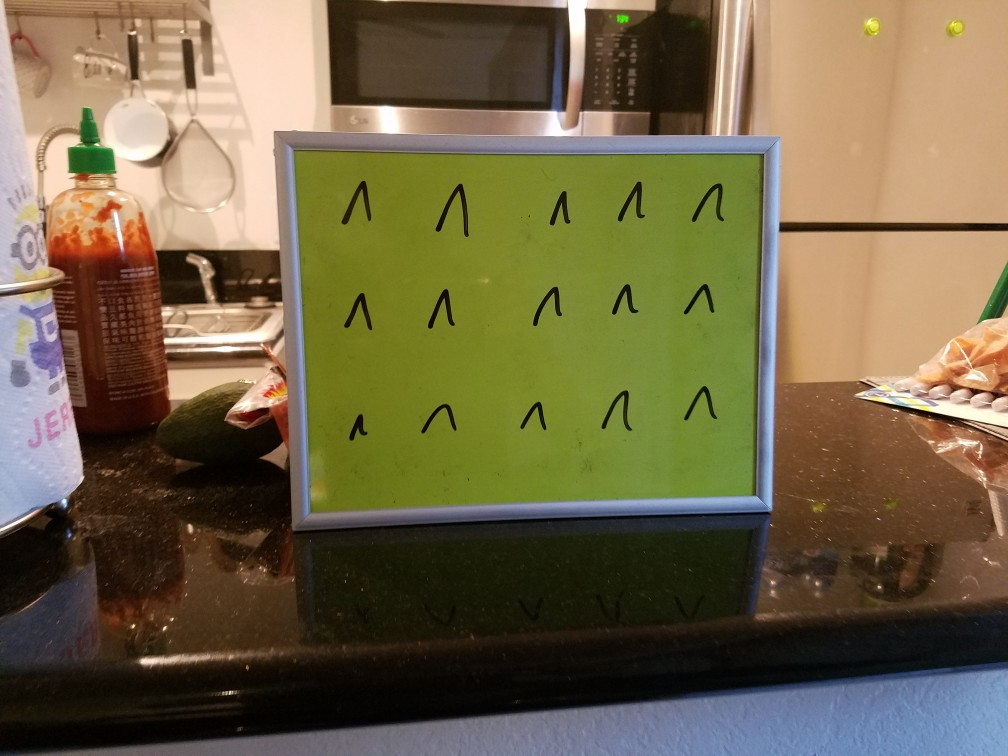^: (521, 273, 587, 342), (427, 176, 485, 248), (324, 177, 383, 234), (541, 176, 589, 245), (595, 382, 648, 440), (682, 174, 734, 229), (679, 379, 730, 432), (420, 393, 463, 452), (615, 173, 659, 230), (328, 286, 376, 338), (509, 395, 557, 446), (422, 283, 464, 338), (679, 277, 720, 327), (611, 276, 640, 322), (346, 403, 371, 450)
